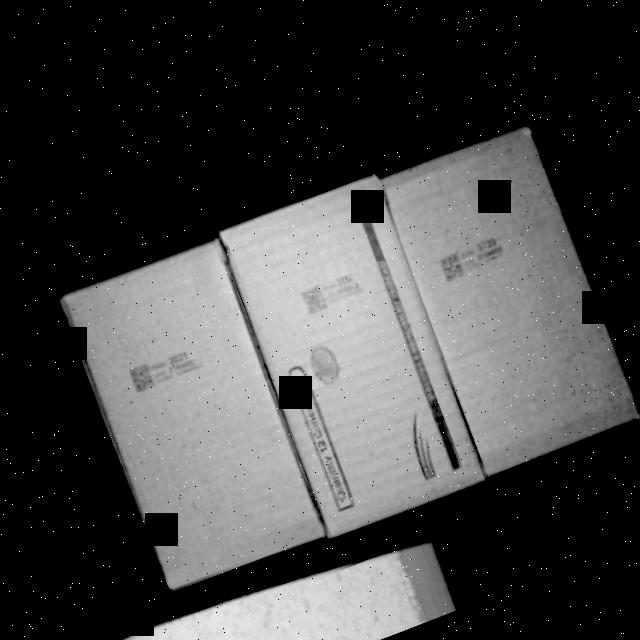box: (54, 231, 334, 595), (216, 174, 492, 538), (377, 118, 640, 473)
